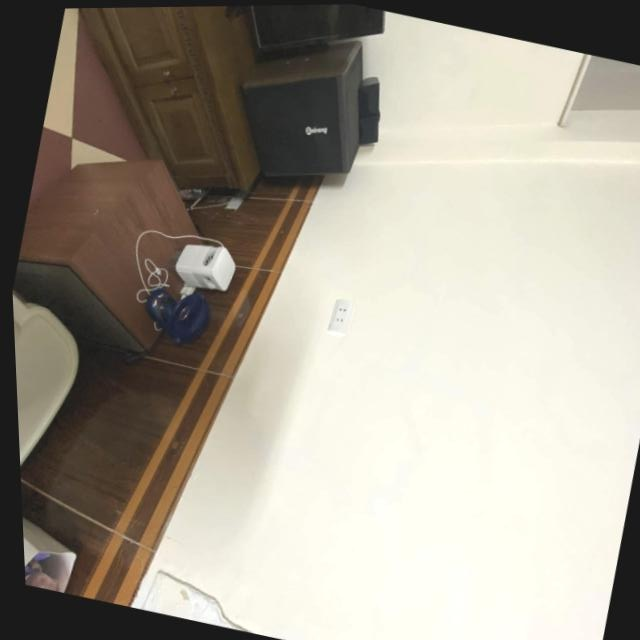outlet: (326, 295, 356, 336)
